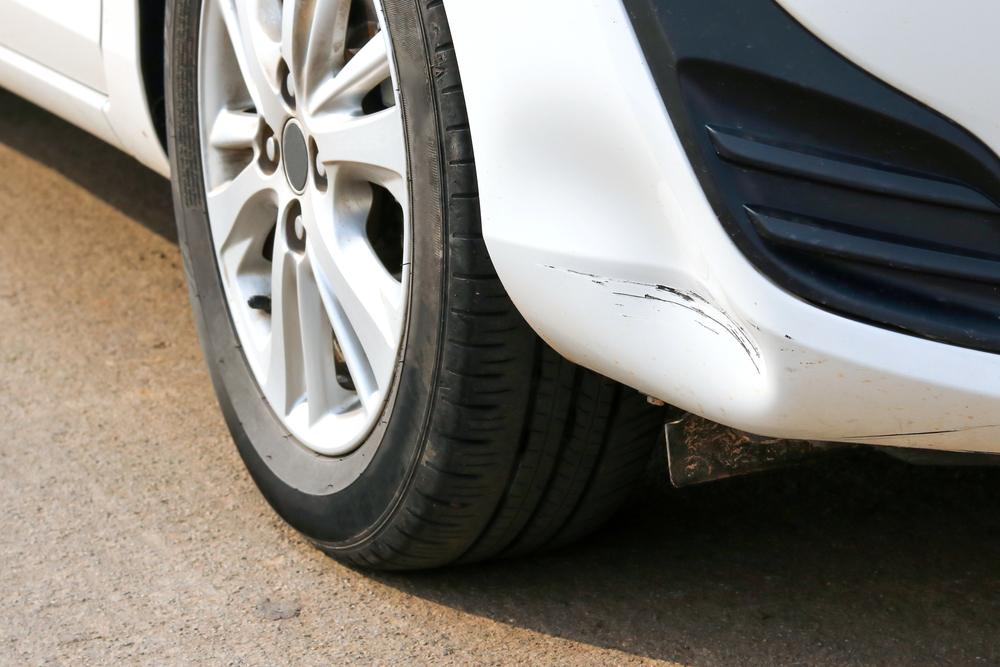dent: (475, 117, 772, 418)
scratch: (840, 424, 1000, 441)
